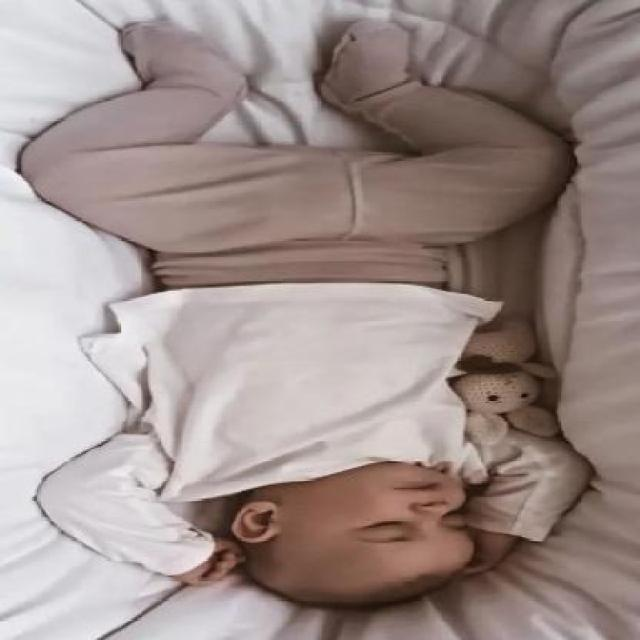baby: (15, 24, 592, 610)
